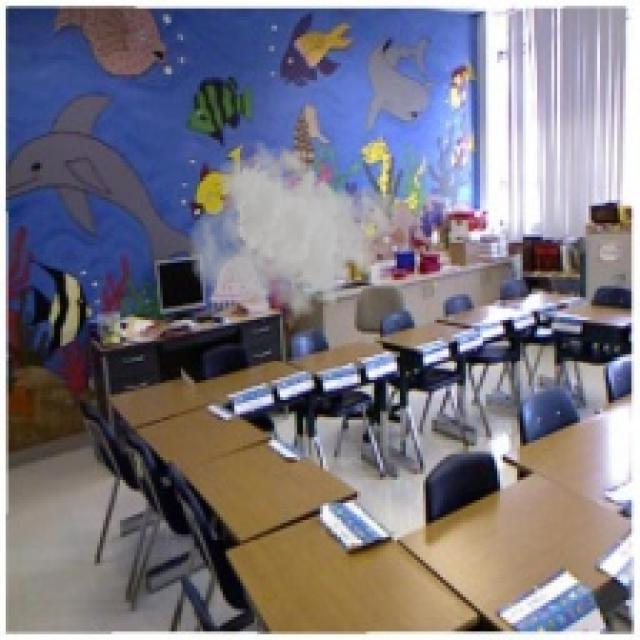smoke: (189, 140, 400, 340)
